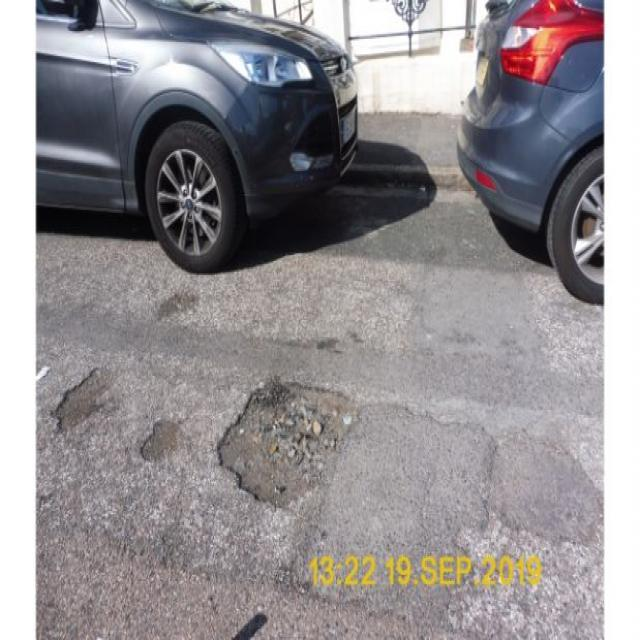pothole: (214, 372, 354, 506), (46, 362, 117, 432), (136, 414, 183, 462)
